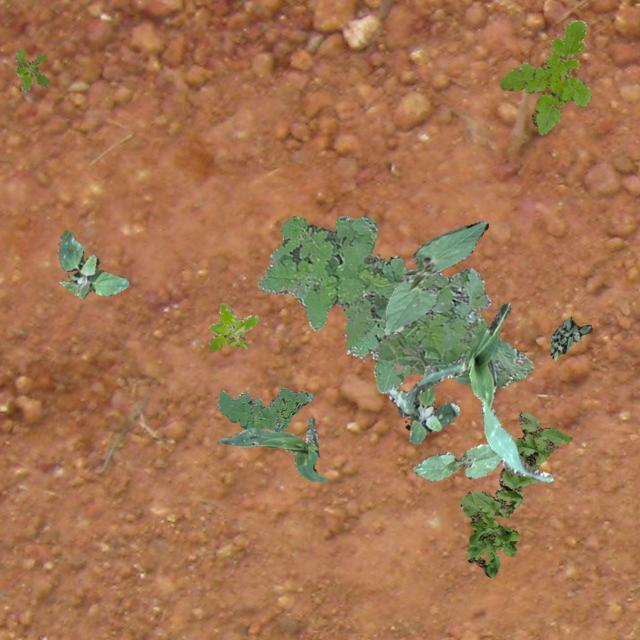crop: (406, 300, 552, 480), (382, 220, 488, 332), (217, 416, 326, 480), (412, 442, 502, 480)
weed: (256, 215, 532, 392), (458, 409, 570, 576), (498, 20, 590, 134), (388, 363, 460, 442), (58, 230, 128, 298), (216, 386, 314, 430), (208, 302, 258, 351), (550, 316, 590, 360), (14, 46, 48, 90)
